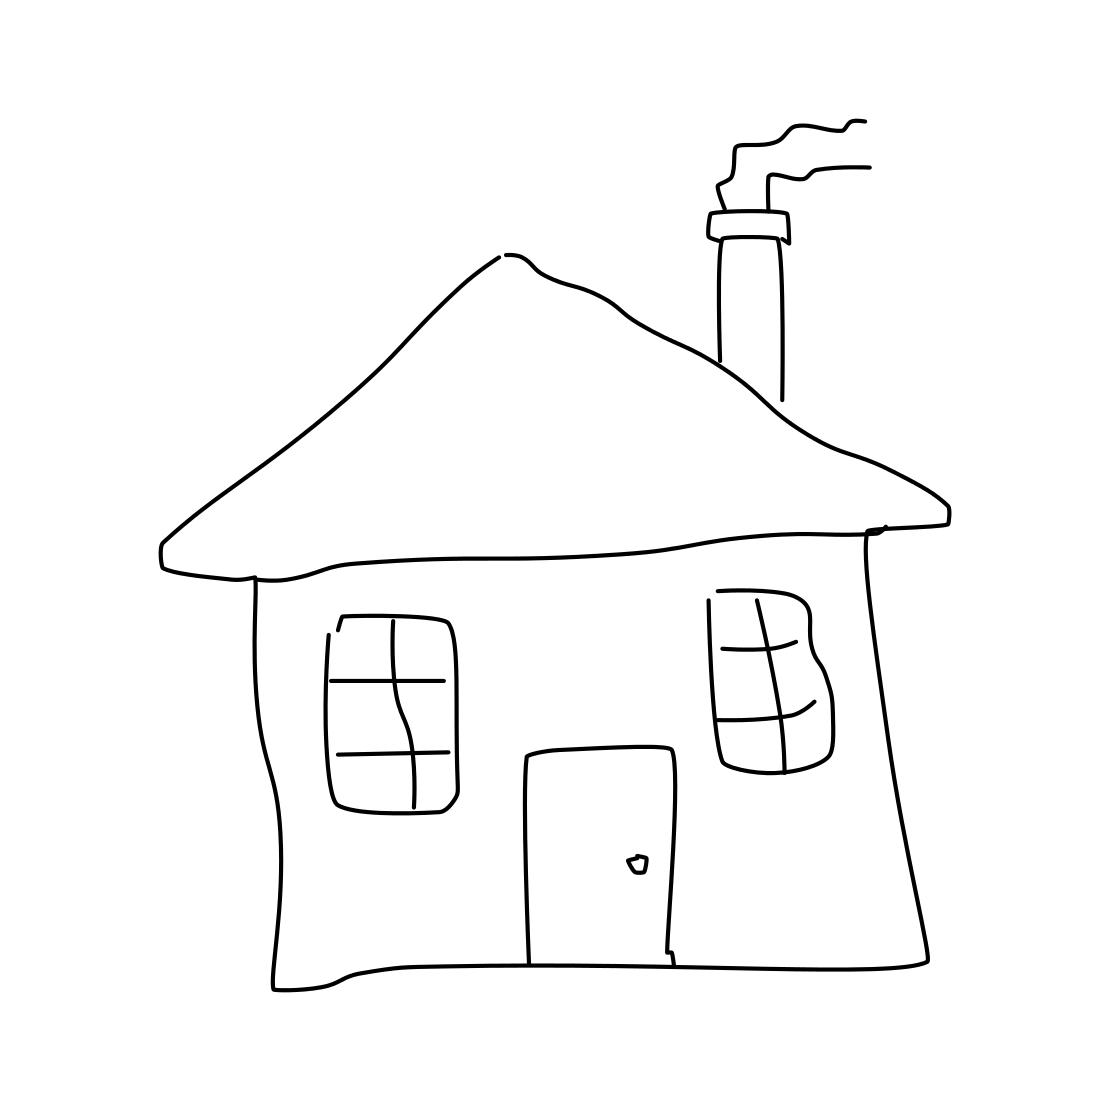House: (151, 184, 1002, 1002)
